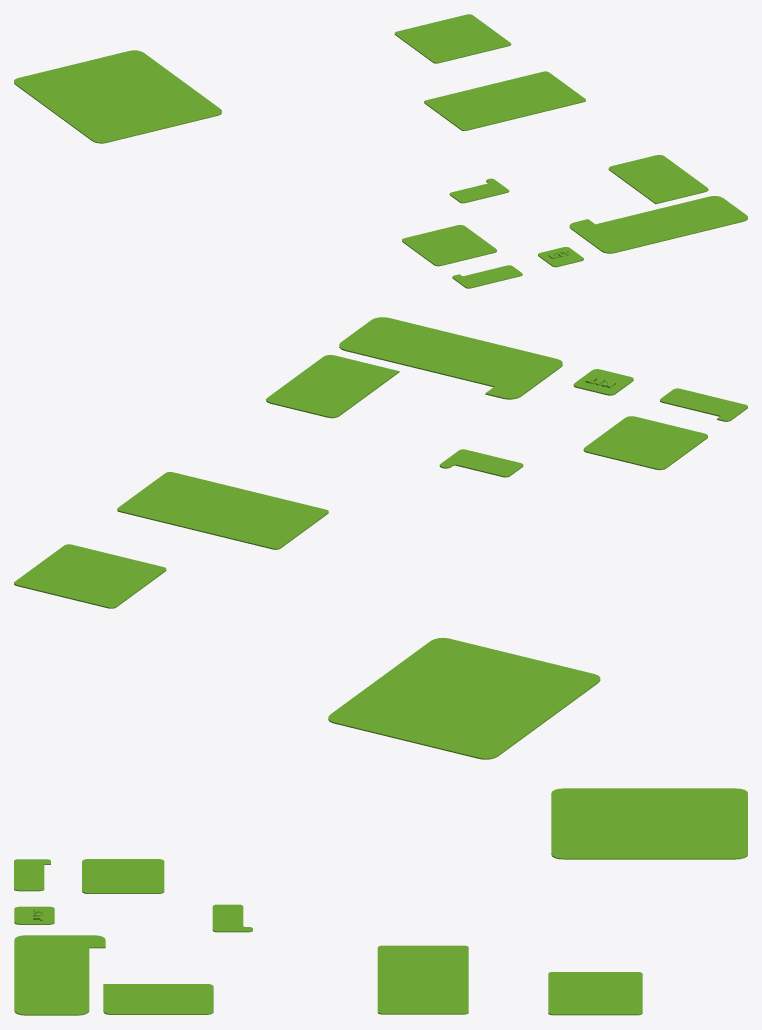
The model's file is kyutech_map_green.glb.
3 views of the same model, one above another, from view 1: azimuth 30°, elevation 25°; view 2: azimuth 150°, elevation 25°; view 3: azimuth 270°, elevation 25° (orthographic). The views are drawn at different scales.
Parts seen in each view (by area): view 1: 平面.013, 平面.016, 平面.011, 平面.018, 平面.012, 平面.008, 平面.009, 平面.010, 平面.007; view 2: 平面.013, 平面.016, 平面.011, 平面.018, 平面.012, 平面.008, 平面.009, 平面.010, 平面.007; view 3: 平面.013, 平面.016, 平面.011, 平面.018, 平面.012, 平面.008, 平面.009, 平面.010, 平面.007.
Boxes of the visible parts, box(x1,y1,x2,y2) form: 平面.013: box(14, 50, 221, 143); 平面.016: box(424, 71, 585, 130); 平面.011: box(569, 196, 747, 253); 平面.018: box(394, 14, 511, 63); 平面.012: box(608, 155, 708, 204); 平面.008: box(402, 225, 496, 266); 平面.009: box(452, 265, 522, 288); 平面.010: box(449, 178, 509, 203); 平面.007: box(538, 247, 583, 267); 平面.013: box(328, 637, 600, 759); 平面.016: box(117, 472, 328, 549); 平面.011: box(339, 317, 562, 399); 平面.018: box(14, 544, 166, 608); 平面.012: box(266, 355, 399, 418); 平面.008: box(583, 416, 707, 470); 平面.009: box(660, 388, 747, 421); 平面.010: box(439, 449, 523, 477); 平面.007: box(573, 369, 633, 395); 平面.013: box(551, 788, 747, 859); 平面.016: box(377, 945, 468, 1014); 平面.011: box(14, 935, 105, 1015); 平面.018: box(548, 972, 642, 1015); 平面.012: box(103, 984, 213, 1014); 平面.008: box(82, 859, 164, 893); 平面.009: box(14, 859, 50, 891); 平面.010: box(212, 904, 252, 932); 平面.007: box(14, 906, 54, 924).
Size of the model in its own units: 269 by 1.24 by 369.
